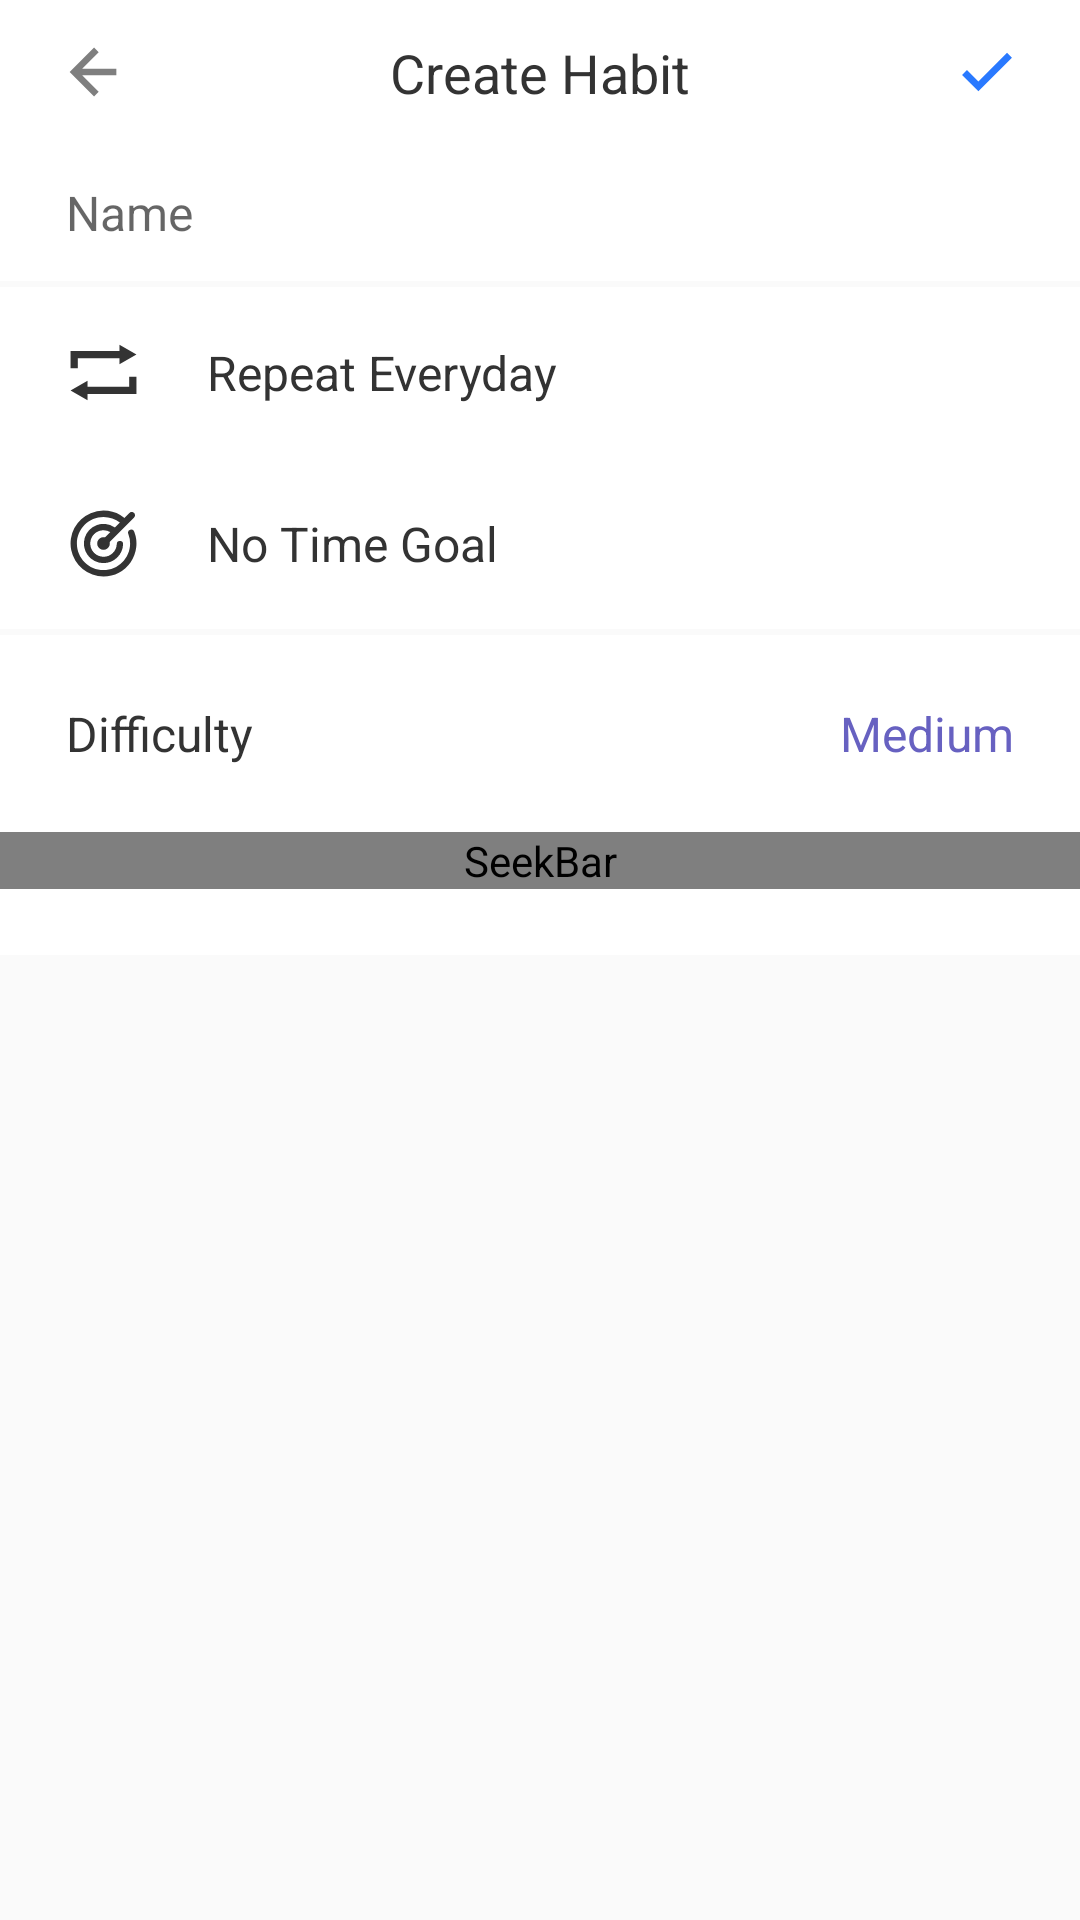

Named icons in this screenshot (1080*1920) and their centers, [x,y]:
back arrow: [93,72]
tick: [987,72]
